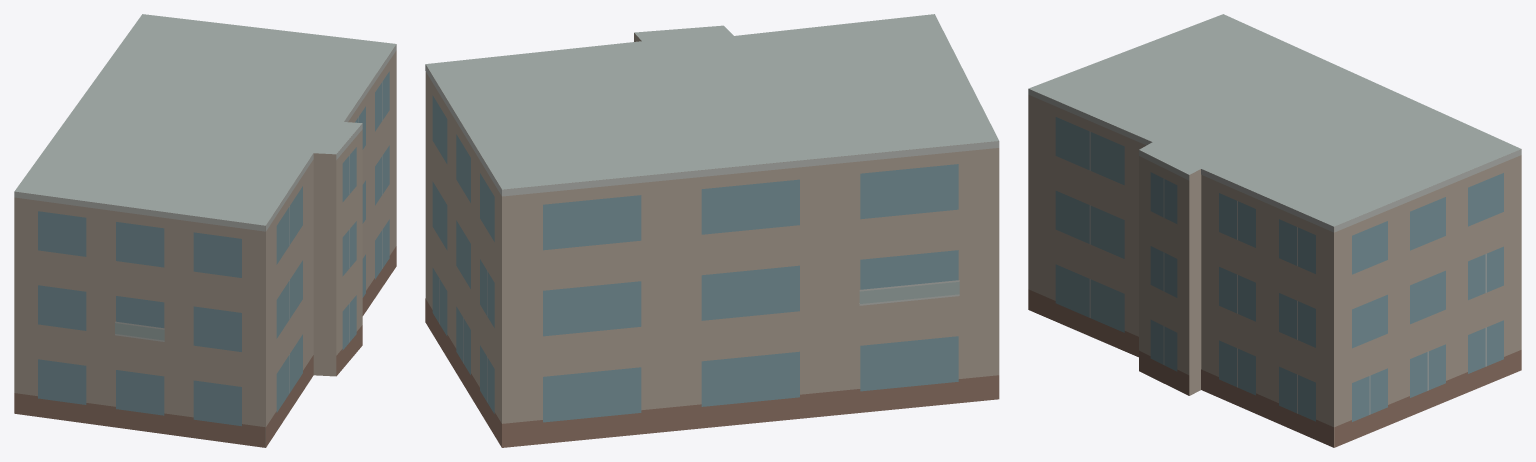
File: survey-upis-32949194.glb
3 renders of one model, left to right at view 1: azimuth 30°, elevation 25°; view 2: azimuth 150°, elevation 25°; view 3: azimuth 270°, elevation 25°, orthographic. The views are drawn at different scales.
Parts seen in each view (by area): view 1: survey-upis-32949194.tmp; view 2: survey-upis-32949194.tmp; view 3: survey-upis-32949194.tmp.
Part boxes in pixels (bbox=[...]): survey-upis-32949194.tmp: bbox=[14, 14, 396, 447]; survey-upis-32949194.tmp: bbox=[425, 14, 999, 447]; survey-upis-32949194.tmp: bbox=[1028, 14, 1521, 447].
Bounding box in the file's own units: 18.89 × 9.15 × 18.51.
